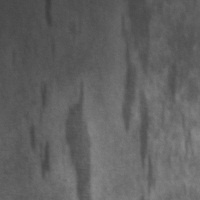inclusion: (117, 1, 159, 138), (61, 74, 95, 199), (134, 86, 155, 196), (27, 120, 56, 182), (162, 59, 184, 114), (36, 80, 52, 125), (40, 1, 55, 31)
